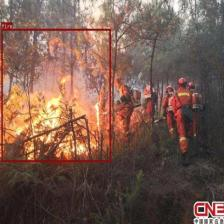fire: (1, 28, 111, 162)
